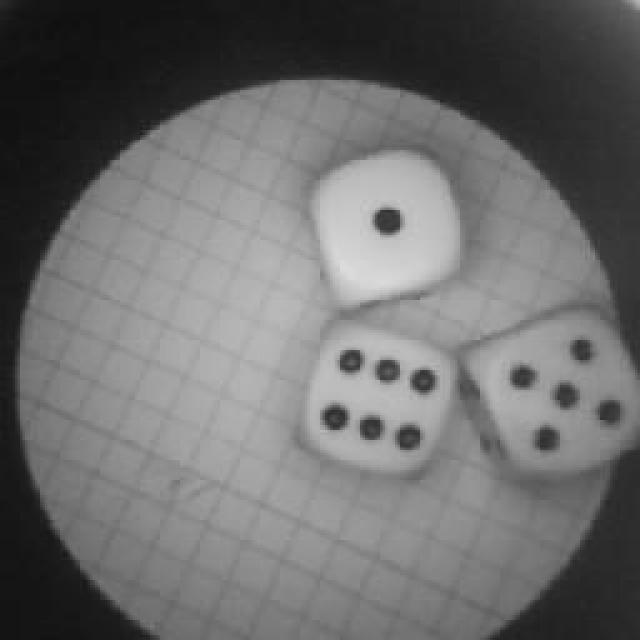dice_1: (305, 140, 463, 302)
dice_5: (465, 300, 640, 480)
dice_6: (298, 315, 460, 480)
